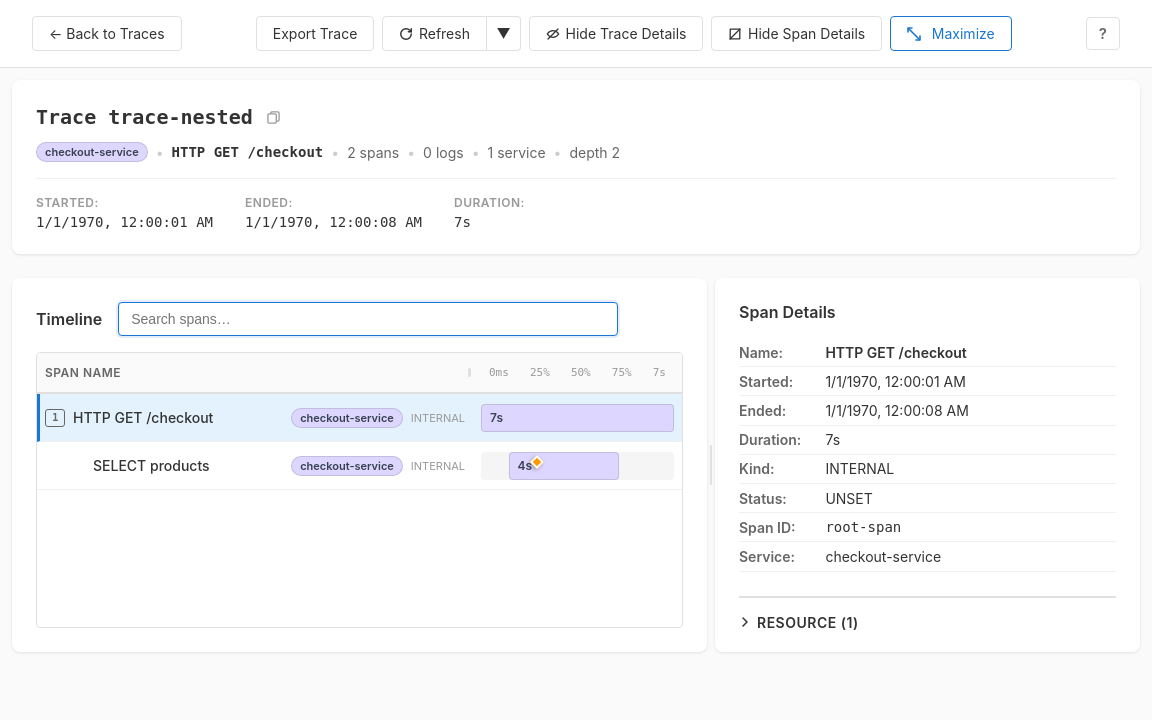
Test case: auto-selects the first search match
Step 1. Type "select * from products" into the field with placeholder "Search spans…" → coordinates (368, 319), box [118,302,618,336]
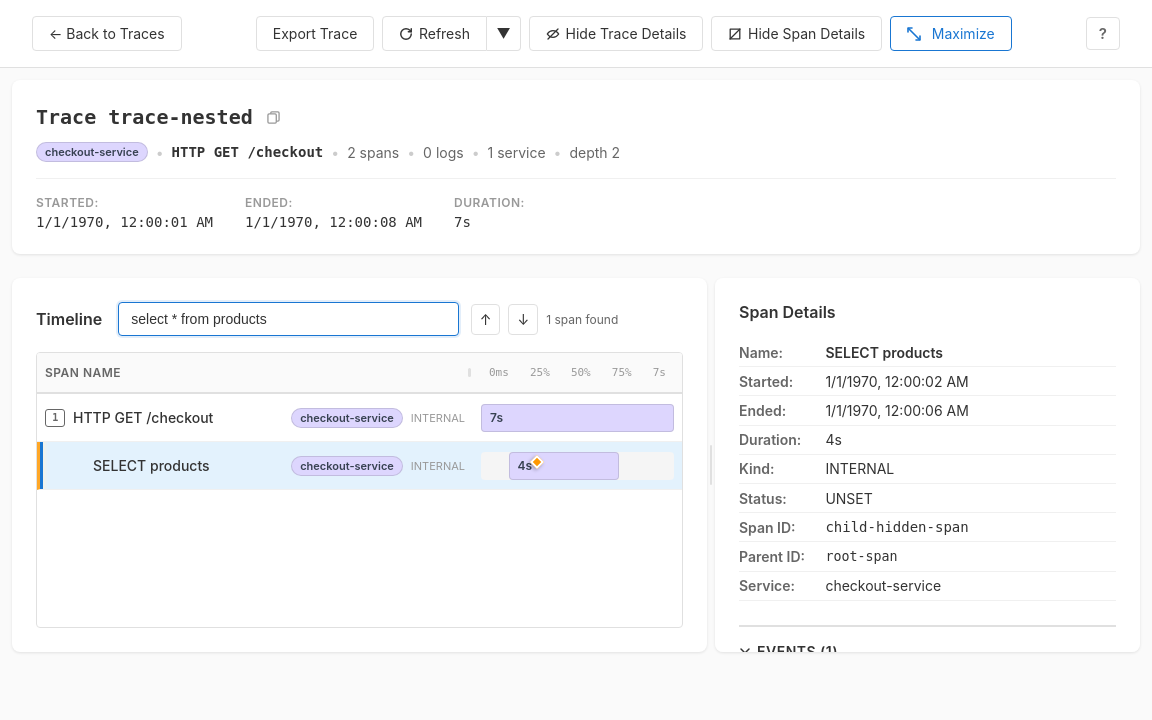
Expected: the text "1 span found" is shown, [546,312,618,326]
